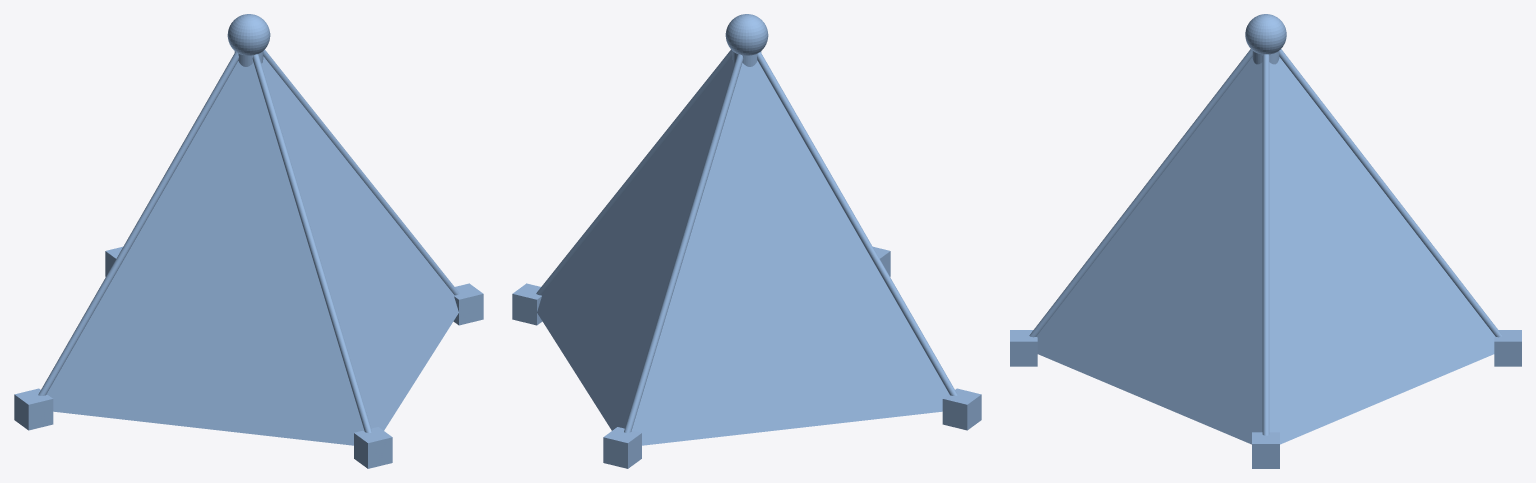
File: tensile.glb
3 renders of one model, left to right at view 1: azimuth 30°, elevation 25°; view 2: azimuth 150°, elevation 25°; view 3: azimuth 270°, elevation 25°, orthographic. The views are drawn at different scales.
Visible parts, largest first — view 1: tensile; view 2: tensile; view 3: tensile.
Part boxes in pixels (<box>): tensile: <box>14,14,483,468</box>; tensile: <box>512,14,981,468</box>; tensile: <box>1010,14,1521,468</box>.
Size of the model in its own units: 74 by 54.99 by 74.
